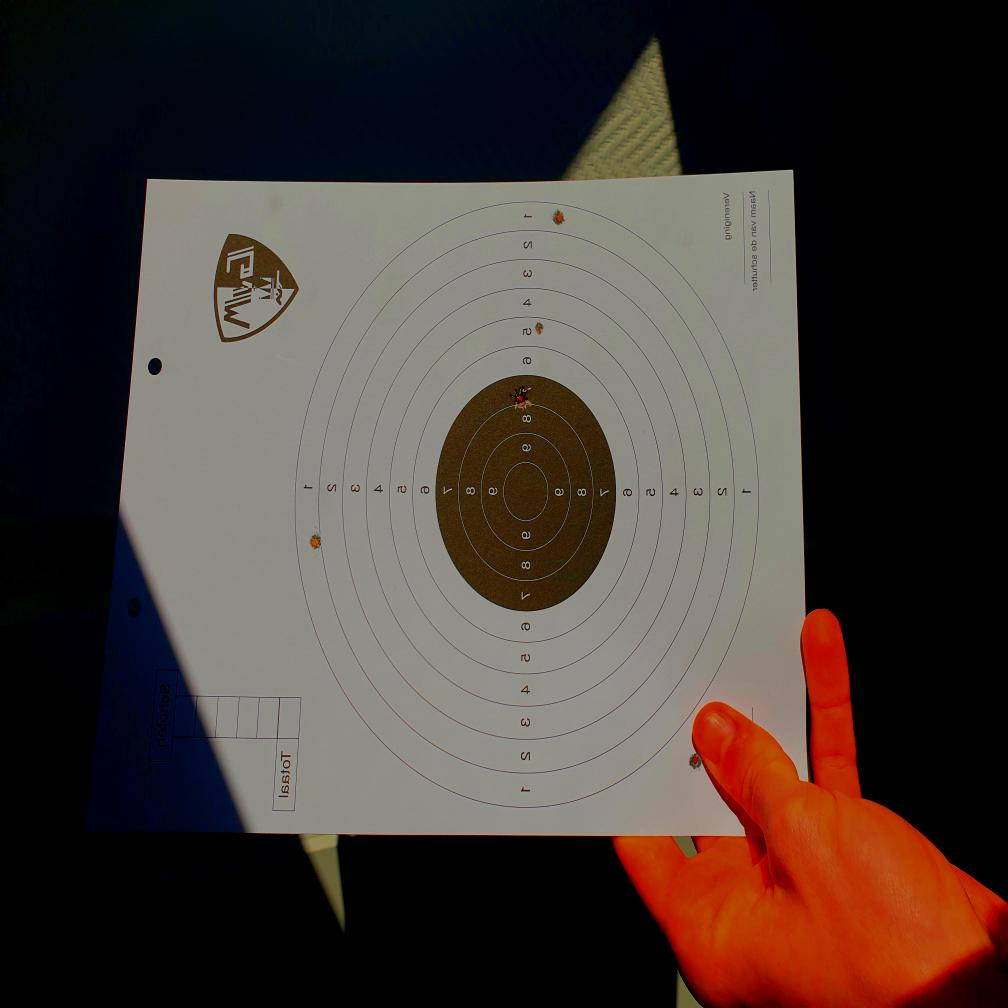0: (687, 750, 704, 773)
1: (548, 208, 567, 229)
2: (307, 526, 323, 555)
5: (534, 322, 544, 336)
8: (509, 386, 533, 412)
Target: (293, 198, 761, 812)
black_contour: (435, 374, 617, 612)
